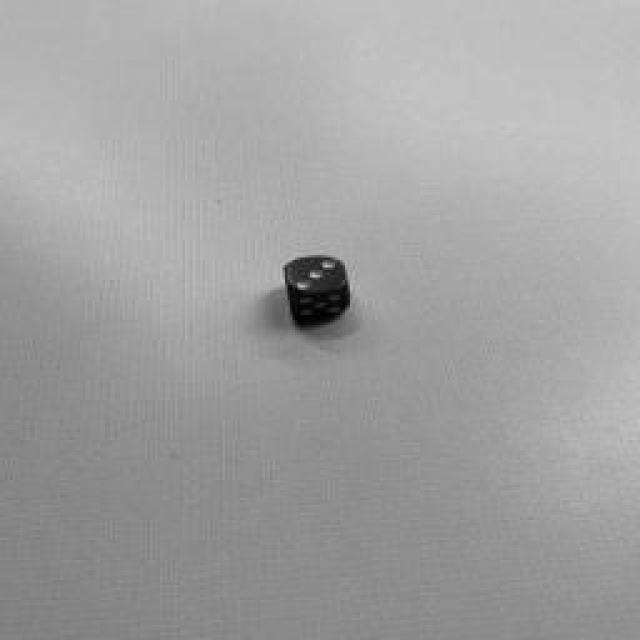dice_3: (285, 256, 347, 294)
